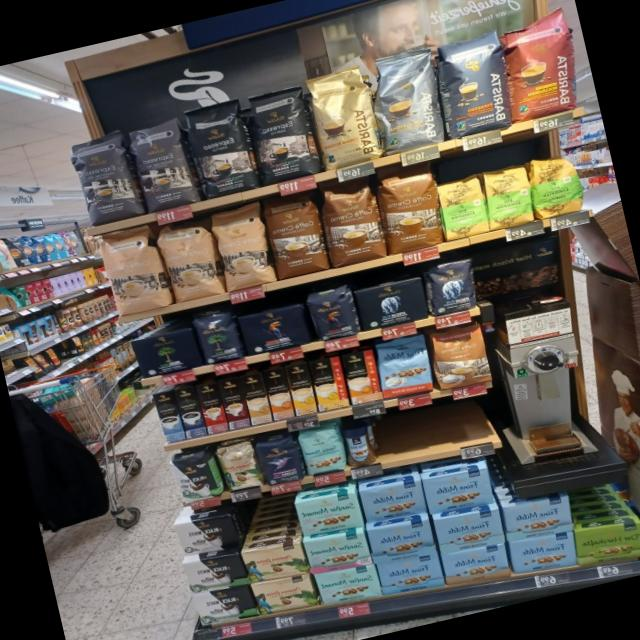Barista Kolumbien: (491, 5, 590, 124)
